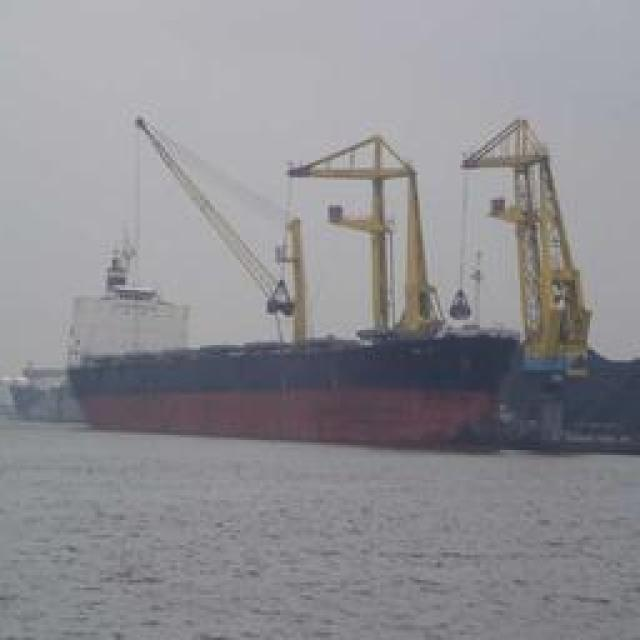CIV_Ship: (75, 326, 525, 439)
